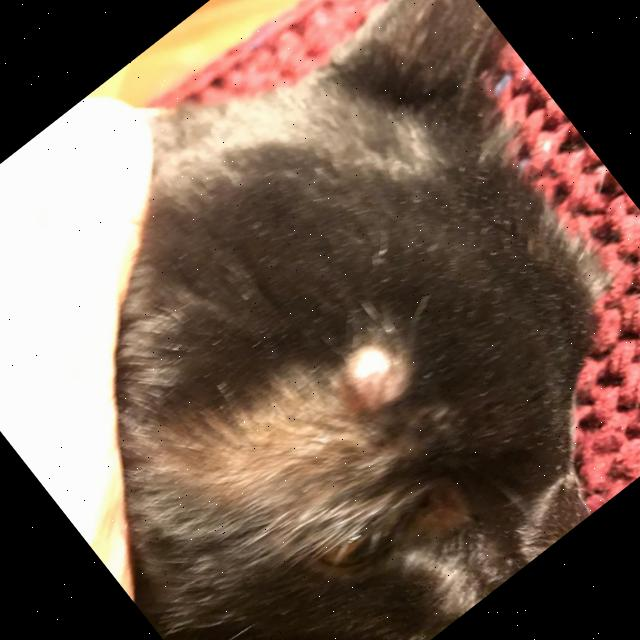cat-lump-and-bump: (321, 312, 430, 418)
